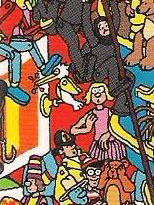waldo: (79, 153, 102, 189)
